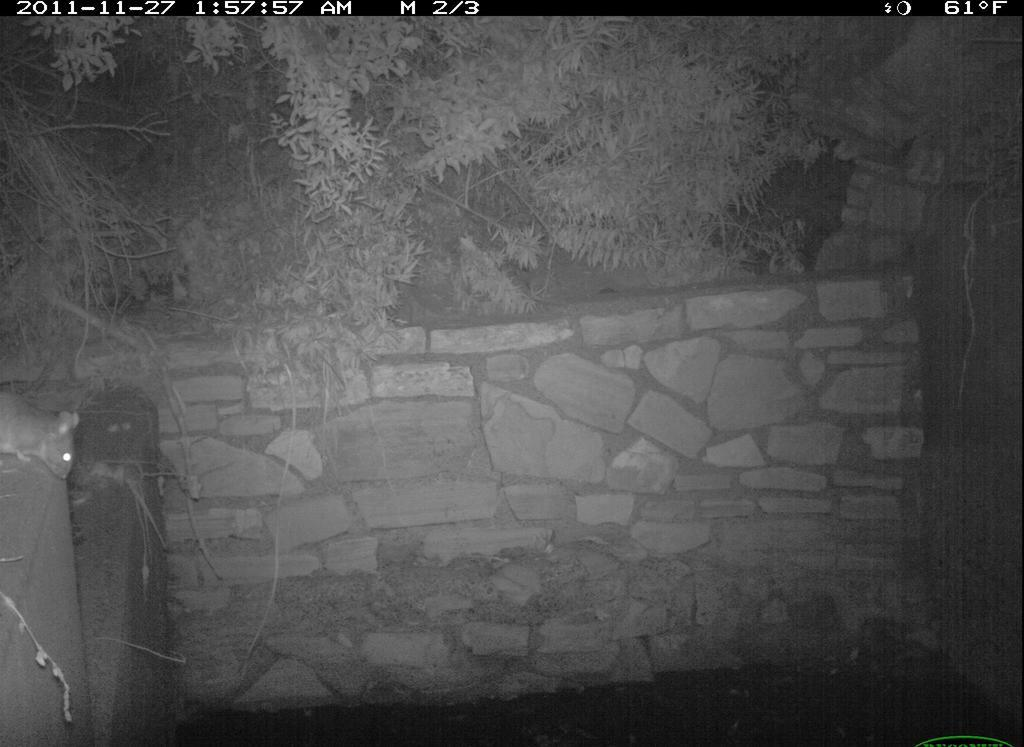rodent: (3, 396, 97, 504)
